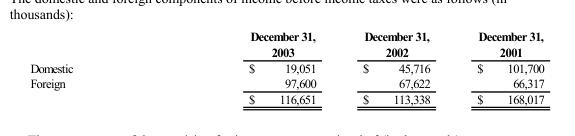table: (29, 29, 543, 105)
table column: (160, 29, 338, 105), (29, 29, 160, 105), (338, 29, 452, 105), (452, 29, 543, 105)
table column header: (29, 29, 543, 59)
table row: (29, 29, 543, 59), (29, 59, 543, 75), (29, 75, 543, 90), (29, 90, 543, 105)
